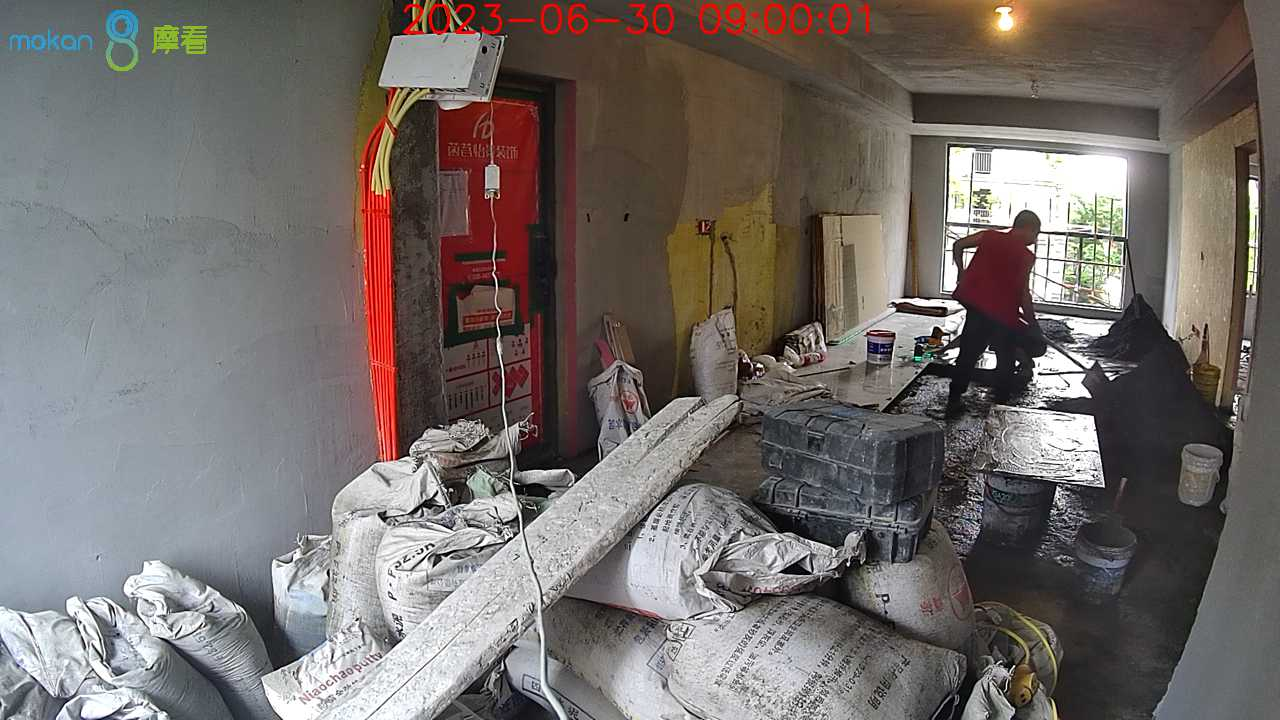people: (950, 210, 1047, 408)
window: (946, 148, 1124, 309)
